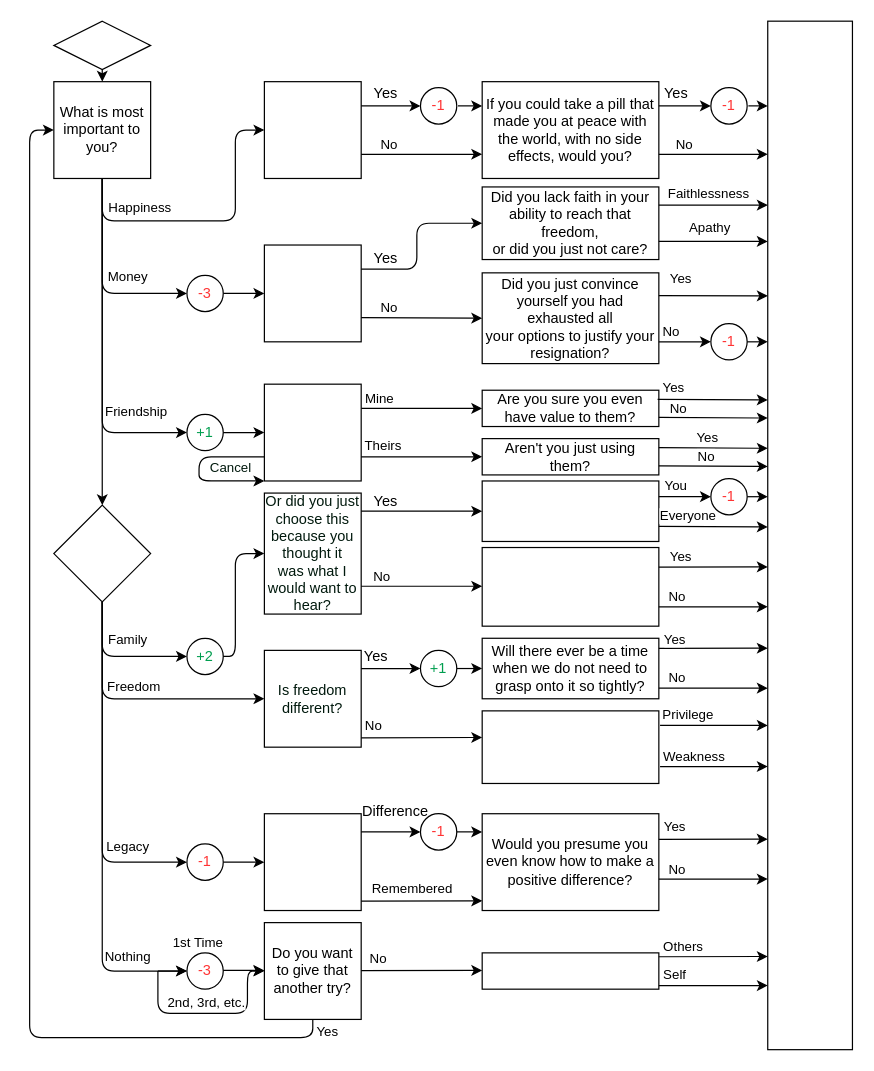
The diagram is 874 pixels wide and 1071 high, and some of its shapes have lost their labels. The box of each missing label's shape, as (x1, y1, x2, y2) in pixels:
END: (767, 20, 852, 1050)
Is it a privilege or a weakness to leave that door eternally open?: (481, 710, 659, 783)
Is it just me, or do you treat everyone that way?: (481, 480, 659, 541)
Isn't that another form of selfishness?: (263, 80, 361, 178)
Isn't there another way to find those things?: (263, 244, 361, 342)
Other: (53, 504, 151, 602)
So which is it?: (481, 952, 659, 989)
START: (53, 20, 151, 70)
Which is more important, your value to them or theirs to you?: (263, 383, 361, 481)
Would they still be the most important to you if you were never related at all?: (481, 546, 659, 626)
Would you rather make a difference... or ... be remembered?: (263, 813, 361, 911)
